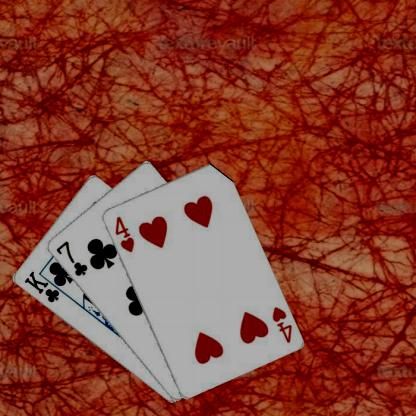4H: (112, 213, 136, 254), (269, 304, 293, 344)
7C: (53, 238, 88, 278)
KC: (21, 268, 68, 304)
